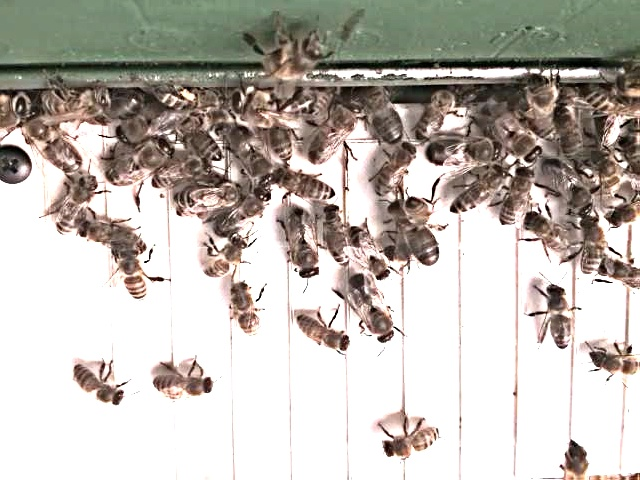Drone: (386, 201, 446, 272), (344, 273, 400, 348), (306, 100, 366, 170), (102, 139, 178, 192), (285, 207, 324, 283), (422, 135, 505, 169)
Worker: (52, 173, 101, 239), (446, 169, 512, 217), (70, 366, 130, 411), (202, 233, 254, 284), (350, 224, 393, 285), (377, 141, 421, 199), (295, 314, 354, 356), (227, 280, 266, 341), (543, 282, 575, 355), (498, 169, 536, 230), (379, 425, 443, 461), (282, 167, 341, 206), (152, 370, 217, 404), (577, 215, 607, 281), (117, 251, 150, 306), (323, 207, 350, 270)
